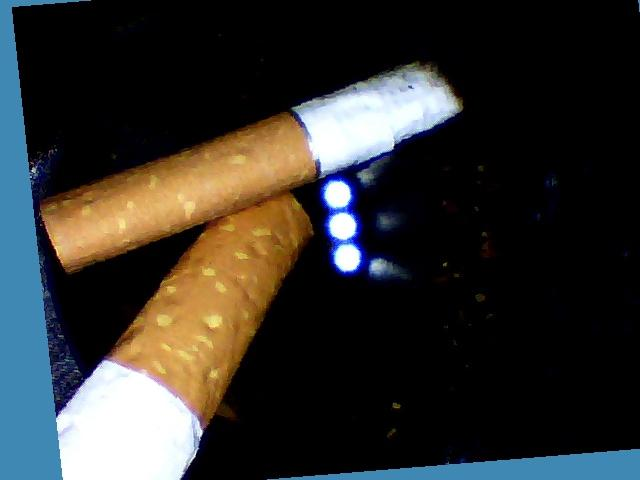megot: (19, 43, 495, 281), (30, 154, 350, 479)
